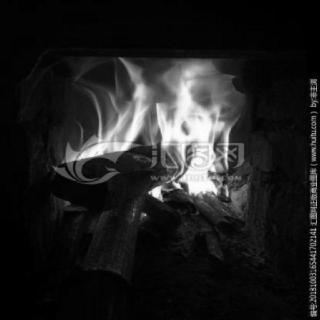Fire: (51, 52, 261, 202)
